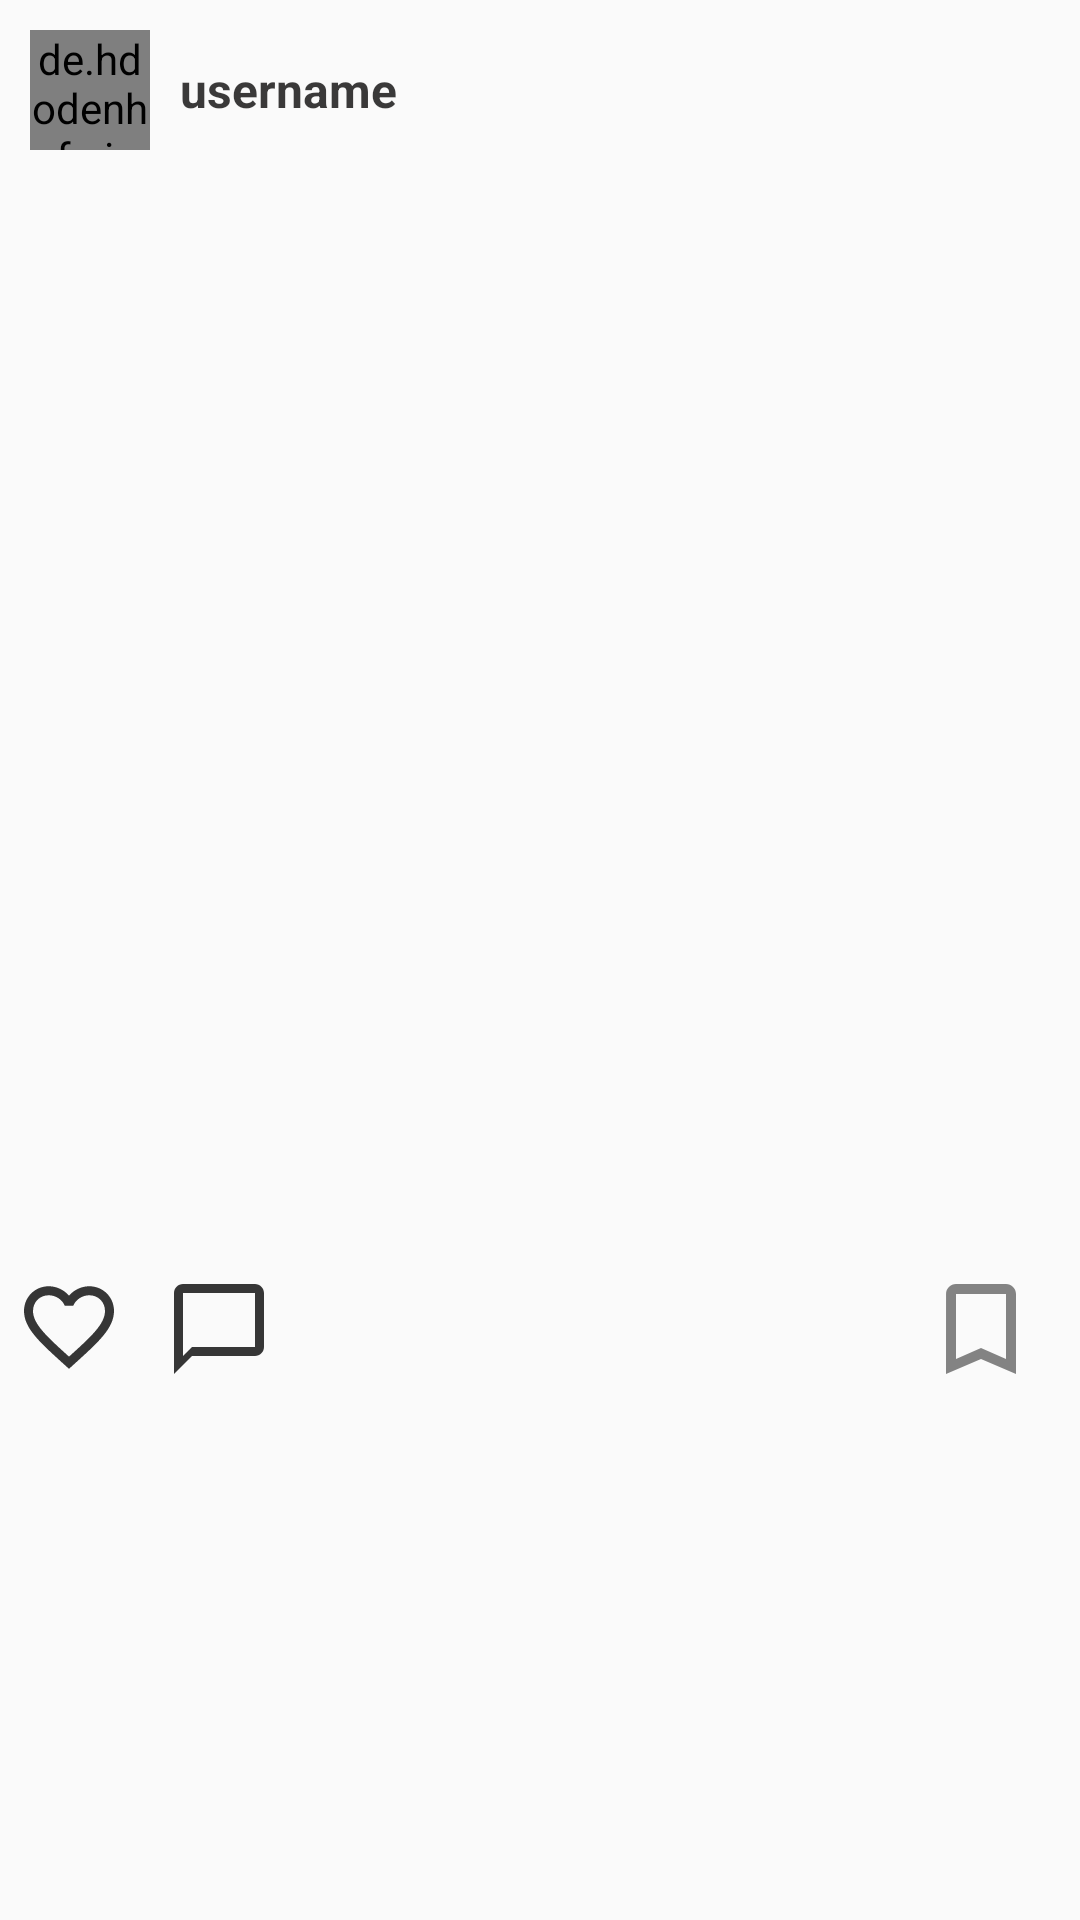

Screen size 1080×1920. Icon name, then its box in pixels as (x1, y1, x2, y2):
comment: (174, 1284, 264, 1374)
like: (24, 1286, 114, 1369)
save: (946, 1284, 1016, 1374)
